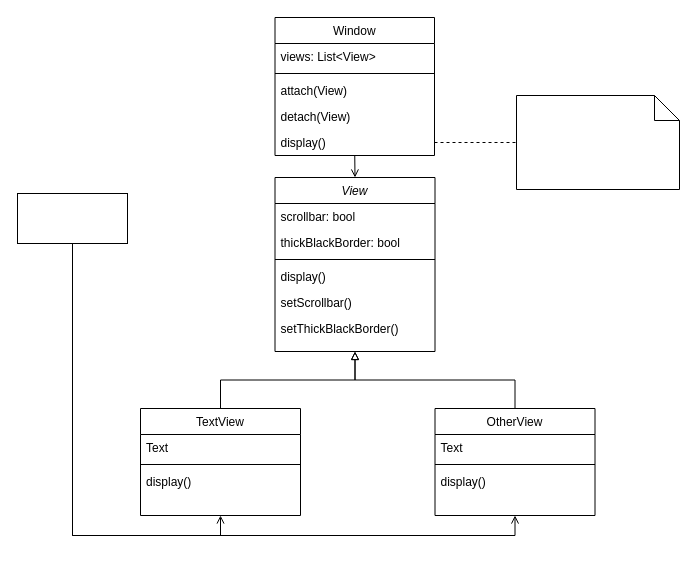
Some shapes in this 697 by 561 pixel diagram are drawn without their labels. Here are the shapes that lost their labels. From the top down, the centre of each, then its label:
[598,142]: for each element in views{ views[i].display(); }
[72,218]: User
